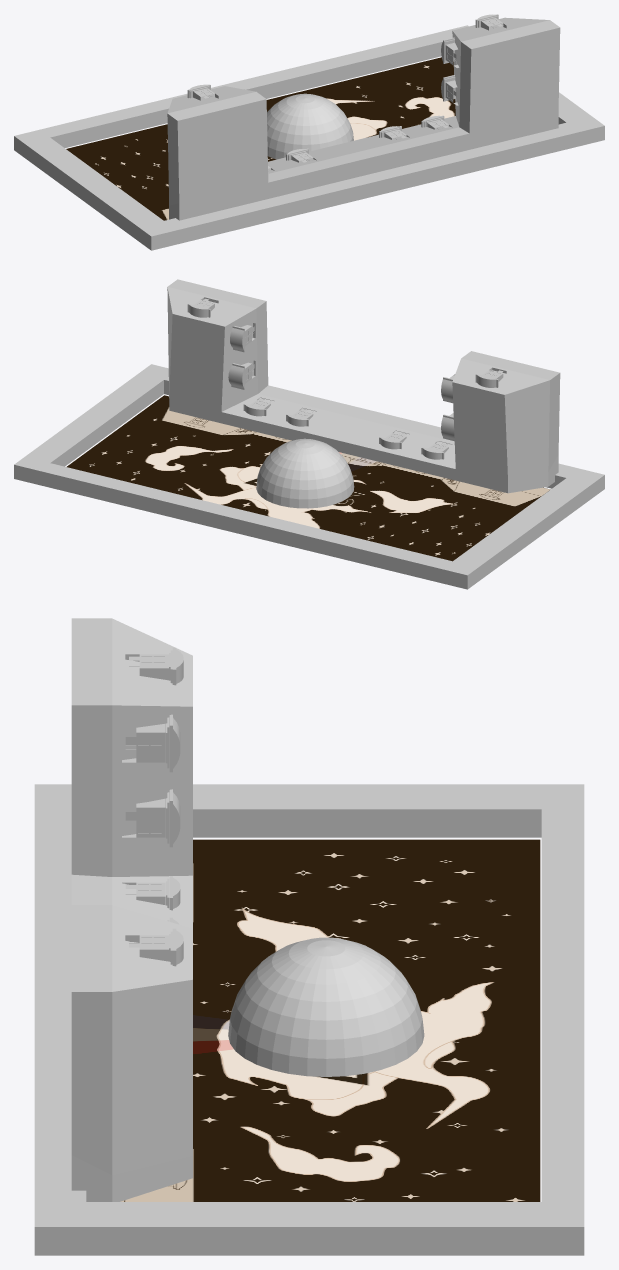
File: Carte_de_Voeux.glb
The picture shows the model from 3 angles, top to bottom: view 1: azimuth 30°, elevation 25°; view 2: azimuth 150°, elevation 25°; view 3: azimuth 270°, elevation 25°; orthographic projection. The views are drawn at different scales.
Visible parts, largest first — view 1: Bâtiment, cadre, carte de voeux Lin William Charadi Mounir-1, Sphere, Fenêtre5, Fenêtre2, Fenêtre4, Fenêtre3; view 2: Bâtiment, carte de voeux Lin William Charadi Mounir-1, cadre, Sphere, Fenêtre4, Fenêtre5, Fenêtre3, Fenêtre, Fenêtre2; view 3: carte de voeux Lin William Charadi Mounir-1, cadre, Bâtiment, Sphere, Fenêtre5, Fenêtre3, Fenêtre4, Fenêtre.
Part boxes in pixels (box(x1,y1,x2,y2)): Bâtiment: box(167, 17, 560, 220); cadre: box(14, 25, 604, 250); carte de voeux Lin William Charadi Mounir-1: box(66, 57, 455, 220); Sphere: box(267, 93, 353, 159); Fenêtre5: box(187, 14, 506, 100); Fenêtre2: box(286, 126, 409, 162); Fenêtre4: box(441, 75, 458, 105); Fenêtre3: box(242, 37, 459, 89); Bâtiment: box(167, 279, 560, 493); carte de voeux Lin William Charadi Mounir-1: box(67, 395, 550, 561); cadre: box(14, 364, 604, 589); Sphere: box(256, 438, 354, 508); Fenêtre4: box(228, 360, 454, 441); Fenêtre5: box(187, 297, 506, 387); Fenêtre3: box(230, 323, 455, 403); Fenêtre: box(243, 397, 452, 459); Fenêtre2: box(286, 407, 409, 449); carte de voeux Lin William Charadi Mounir-1: box(120, 839, 540, 1201); cadre: box(34, 784, 584, 1255); Bâtiment: box(71, 618, 192, 1201); Sphere: box(228, 937, 424, 1076); Fenêtre5: box(125, 647, 183, 966); Fenêtre3: box(122, 714, 180, 922); Fenêtre4: box(122, 789, 180, 847); Fenêtre: box(122, 876, 180, 910).
Bounding box in the file's own units: 0.2315 × 0.0576 × 0.1214.
Materials: 1 (1 with a texture image).
